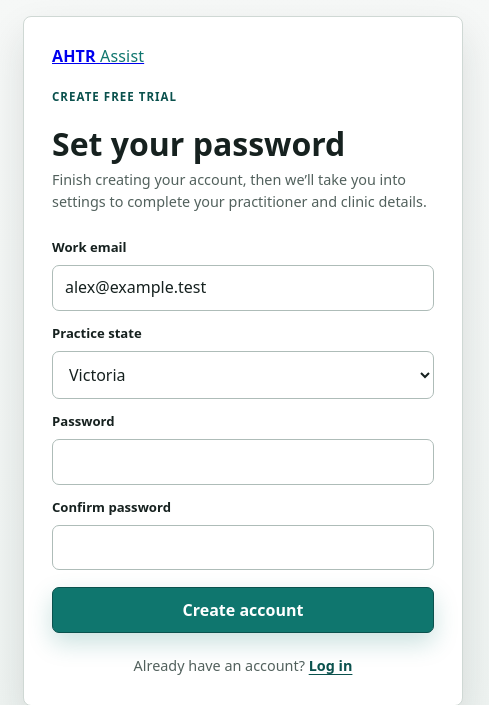
SignupScreen › creates the account when the email is available
The image size is (489, 705).
Type "password123" into the password field labelled "Password" at (243, 462), box [52, 439, 434, 485]
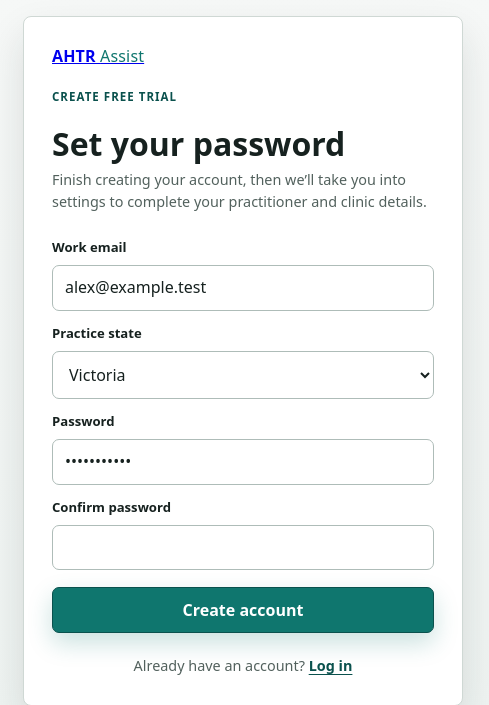
Type "password123" into the password field labelled "Confirm password" at (243, 547), box [52, 525, 434, 570]
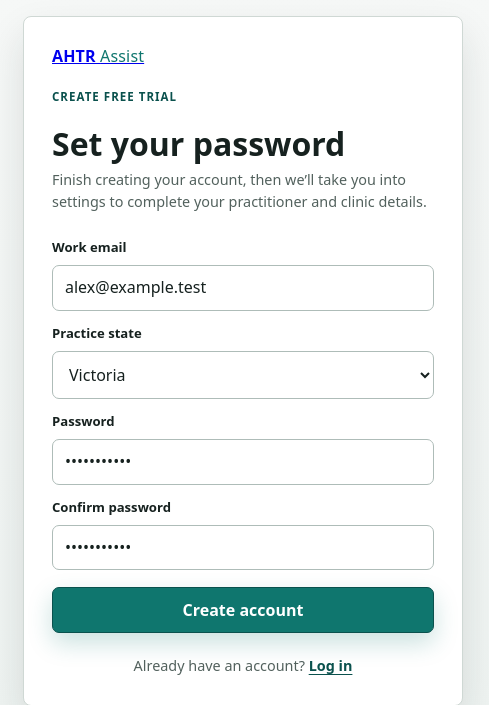
Submit the form "Create account", box [52, 234, 434, 633]
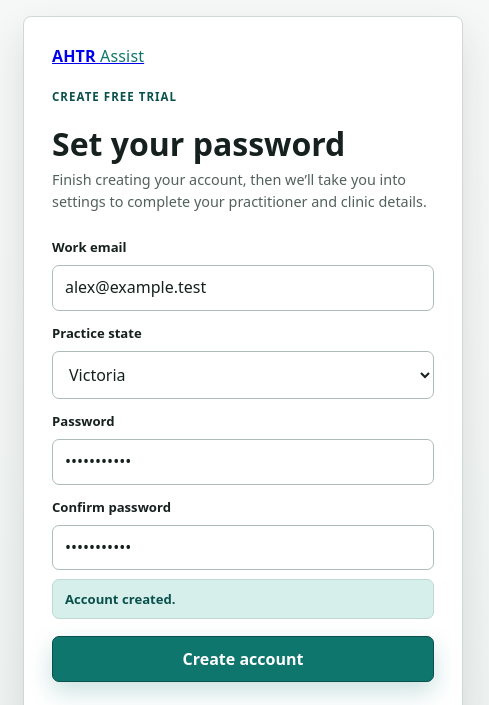
Expected: the message "Account created." is shown, [52, 579, 434, 619]
